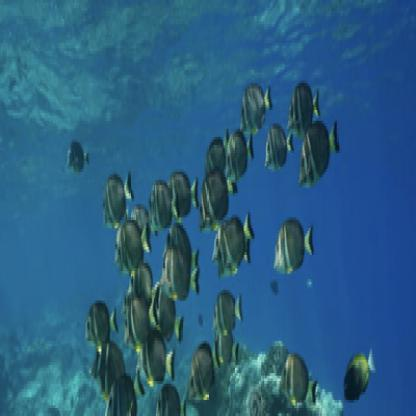Acanthuridae -Surgeonfishes-: (300, 114, 341, 186), (217, 210, 256, 283), (272, 216, 316, 275), (280, 347, 318, 409), (160, 248, 201, 299), (118, 219, 152, 278), (141, 331, 176, 385), (287, 84, 320, 141), (83, 301, 121, 350), (101, 176, 136, 229), (191, 345, 222, 404), (241, 82, 273, 135), (148, 181, 181, 226), (265, 122, 294, 173)
